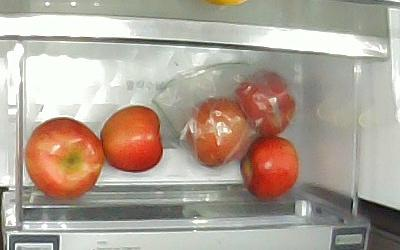apple: (25, 118, 103, 199), (102, 106, 164, 173), (240, 137, 300, 202)
apple_vinyl: (185, 99, 251, 167), (236, 71, 297, 135)
